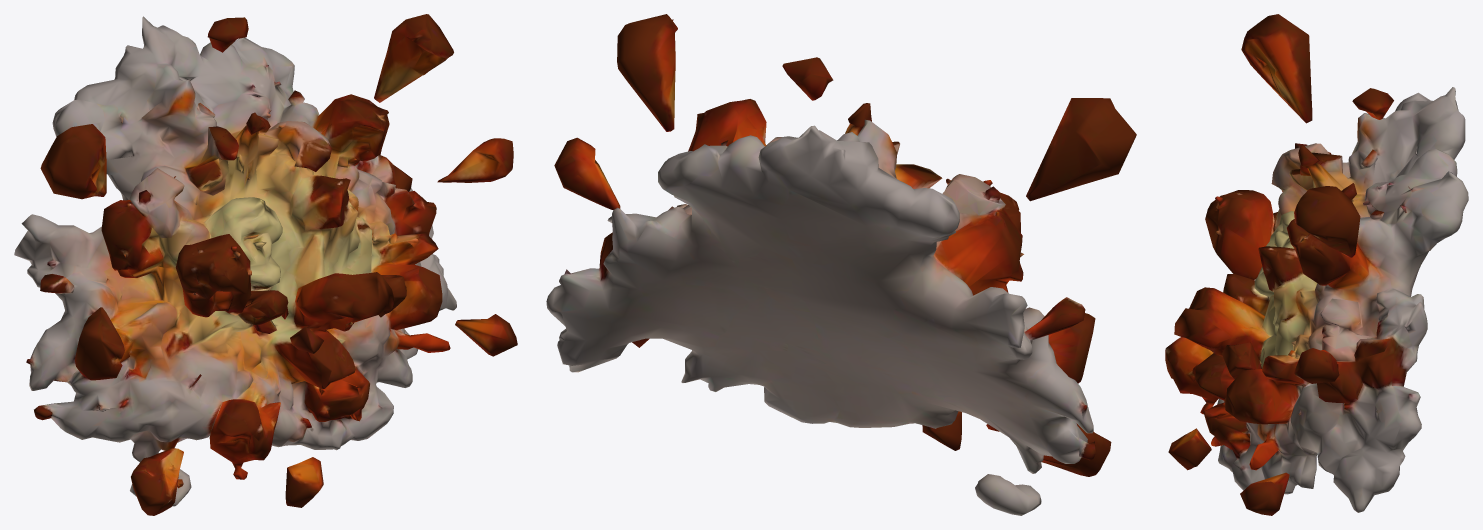
Rendered from magma_c.glb.
3 renders of one model, left to right at view 1: azimuth 30°, elevation 25°; view 2: azimuth 150°, elevation 25°; view 3: azimuth 270°, elevation 25°, orthographic. The views are drawn at different scales.
Visible parts, largest first — view 1: tripo_node_62b9dd8a-a79c-40c4-9b89-ad8b0b4217d4; view 2: tripo_node_62b9dd8a-a79c-40c4-9b89-ad8b0b4217d4; view 3: tripo_node_62b9dd8a-a79c-40c4-9b89-ad8b0b4217d4.
Boxes of the visible parts, x1,y1,x2,y2 form: tripo_node_62b9dd8a-a79c-40c4-9b89-ad8b0b4217d4: [14, 14, 517, 515]; tripo_node_62b9dd8a-a79c-40c4-9b89-ad8b0b4217d4: [546, 14, 1136, 515]; tripo_node_62b9dd8a-a79c-40c4-9b89-ad8b0b4217d4: [1165, 14, 1468, 515].
Size of the model in its own units: 0.9259 by 0.7554 by 0.5296.
Materials: 1 (1 with a texture image).
